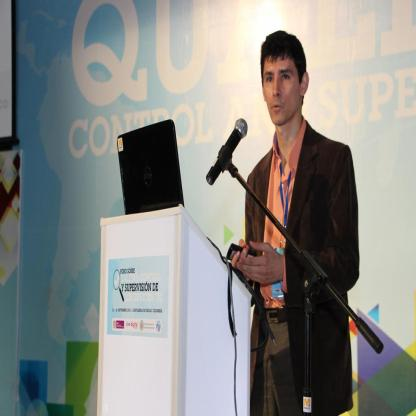board: (116, 119, 184, 214)
